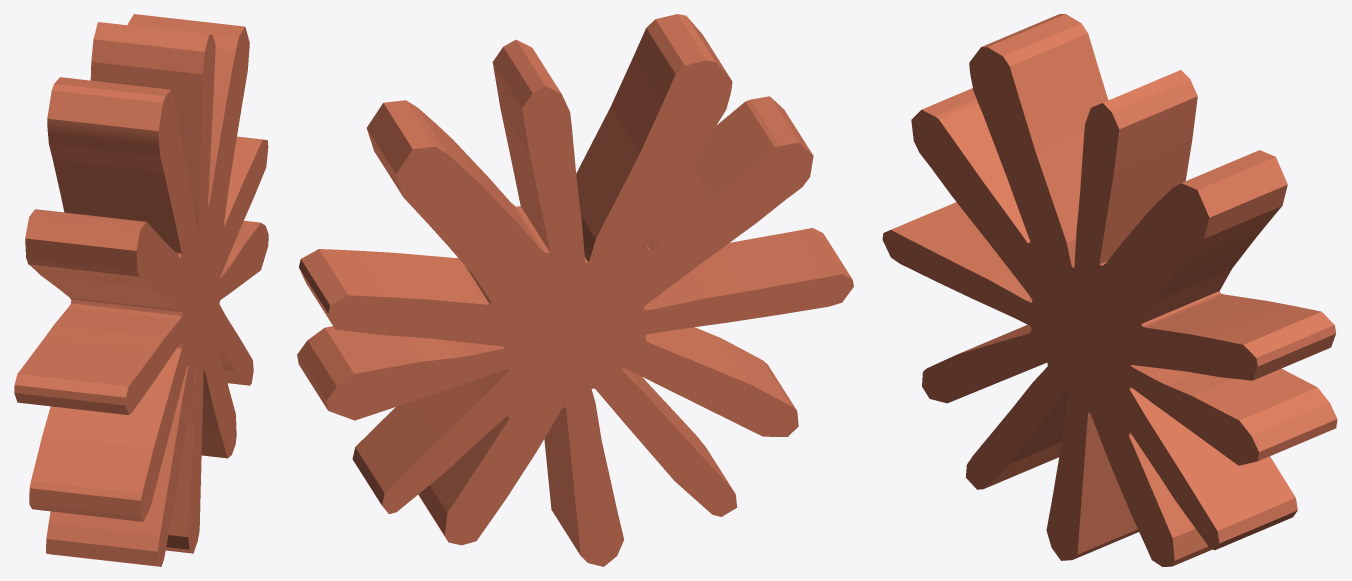
The model's file is claude.gltf.
The picture shows the model from 3 angles, left to right: view 1: azimuth 30°, elevation 25°; view 2: azimuth 150°, elevation 25°; view 3: azimuth 270°, elevation 25°; orthographic projection. The views are drawn at different scales.
Size of the model in its own units: 85.44 by 100 by 85.44.
